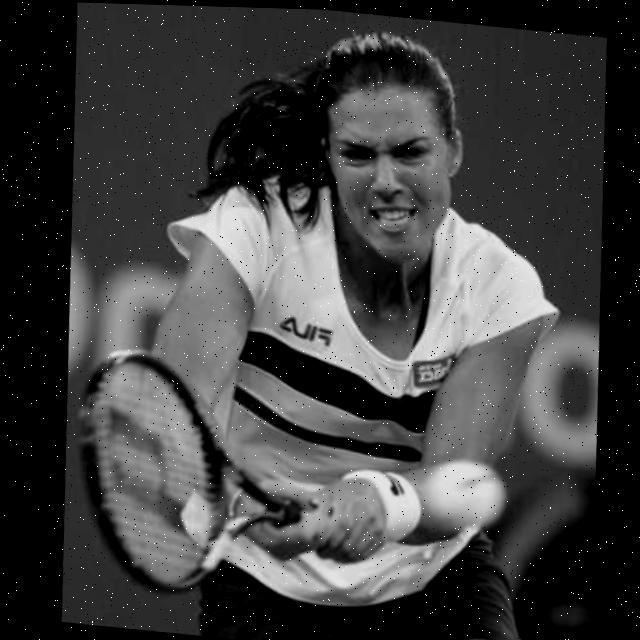face: (311, 60, 462, 286)
